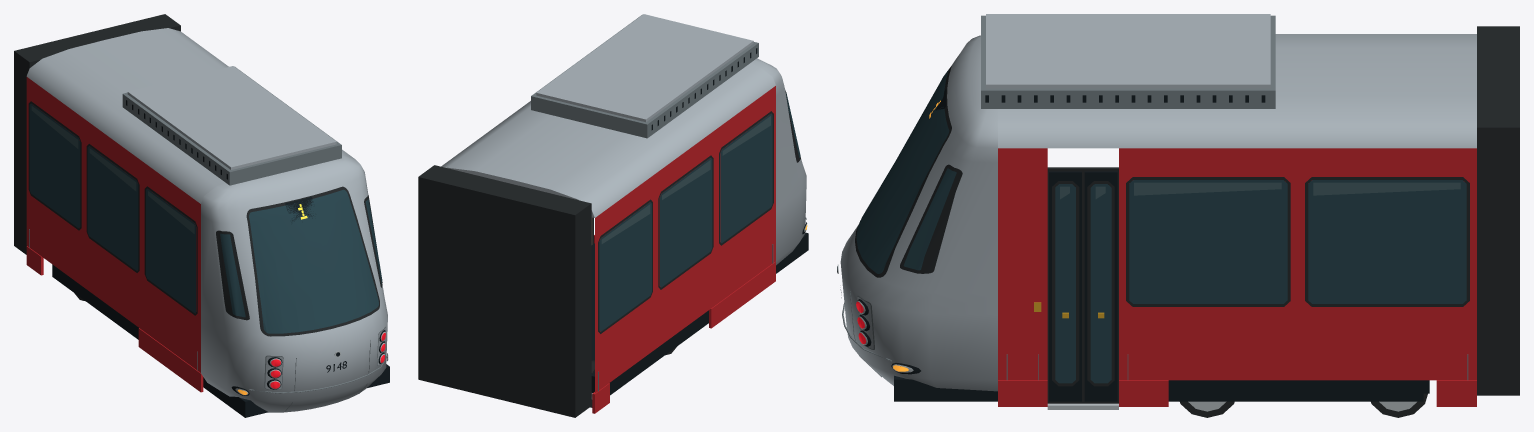
File: 14t-e-viewer.glb
3 views of the same model, side by side, from view 1: azimuth 30°, elevation 25°; view 2: azimuth 150°, elevation 25°; view 3: azimuth 270°, elevation 25° (orthographic). The views are drawn at different scales.
Visible parts, largest first — view 1: 14t-e; view 2: 14t-e; view 3: 14t-e, 14t-e-door-1-0.743-0, 14t-e-door-1-0.743-1.
Boxes of the visible parts, x1,y1,x2,y2 form: 14t-e: (14,14,389,417); 14t-e: (418,14,808,417); 14t-e: (837,14,1519,417); 14t-e-door-1-0.743-0: (1084,171,1117,401); 14t-e-door-1-0.743-1: (1049,171,1081,401).
Size of the model in its own units: 2.56 by 3.61 by 6.72.
